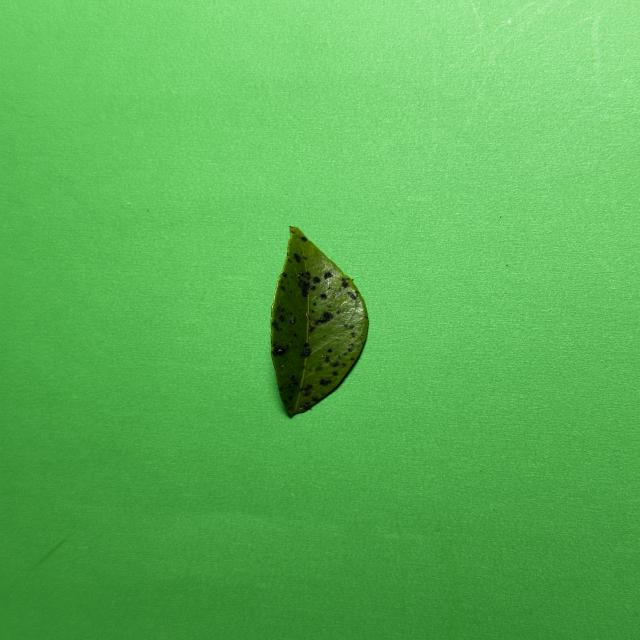sooty_mold: (271, 227, 368, 416)
